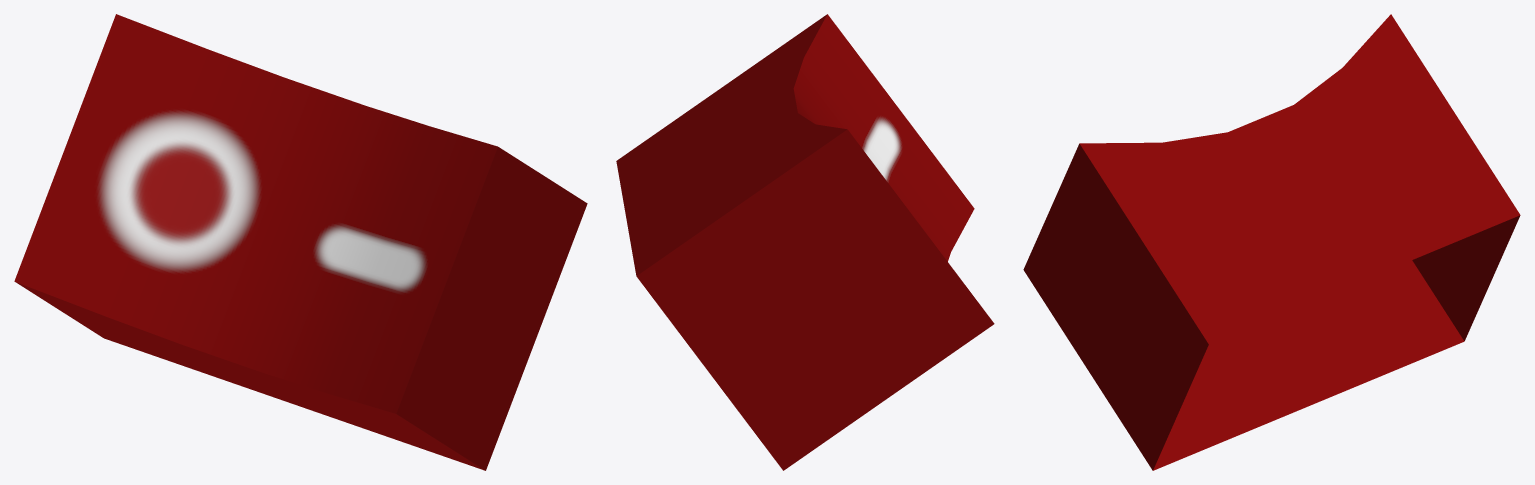
The model's file is Button _sewing mashine  .fbx.
3 renders of one model, left to right at view 1: azimuth 30°, elevation 25°; view 2: azimuth 150°, elevation 25°; view 3: azimuth 270°, elevation 25°, orthographic. The views are drawn at different scales.
Visible parts, largest first — view 1: Button switch; view 2: Button switch; view 3: Button switch.
Part boxes in pixels (x1,y1,x2,y2): Button switch: (14,14,587,470); Button switch: (616,14,994,470); Button switch: (1023,14,1520,470).
Size of the model in its own units: 5.6 by 4.41 by 5.55.
Materials: 1 (1 with a texture image).
